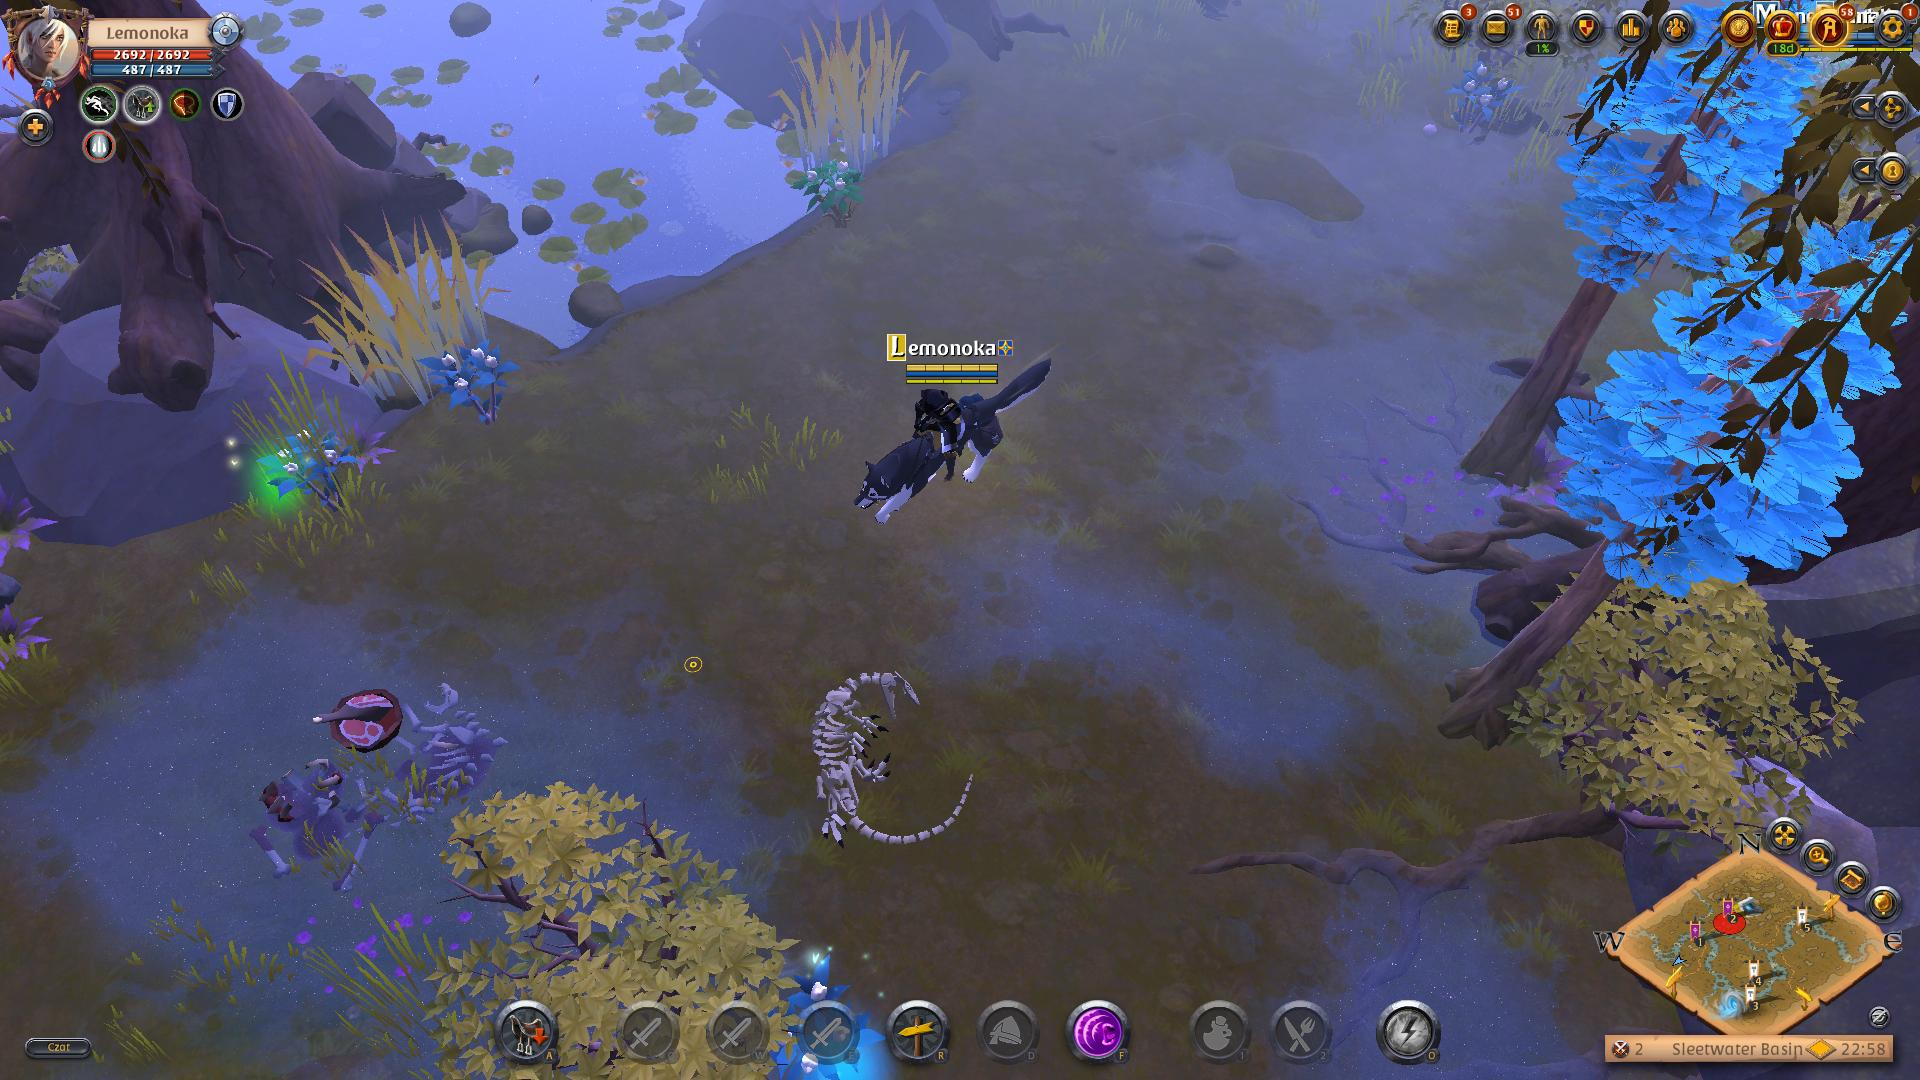fiber tier 4: (265, 423, 367, 516), (423, 342, 520, 425)
wood tier 3: (1549, 210, 1916, 601)
